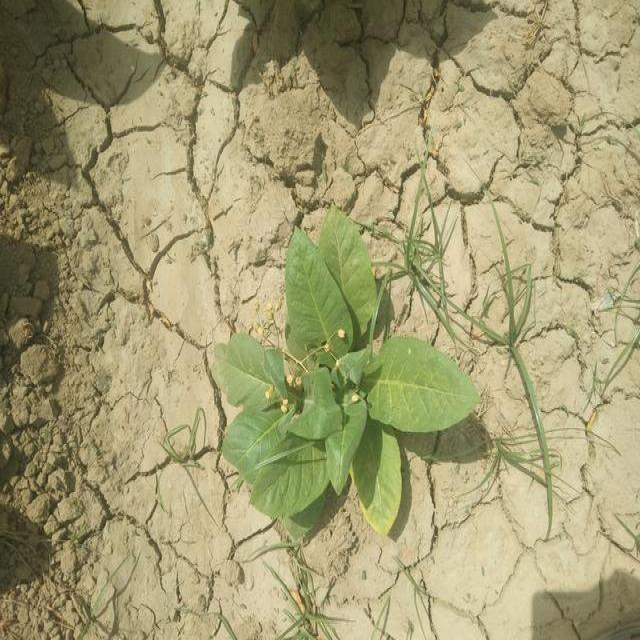crop: (225, 212, 475, 536)
